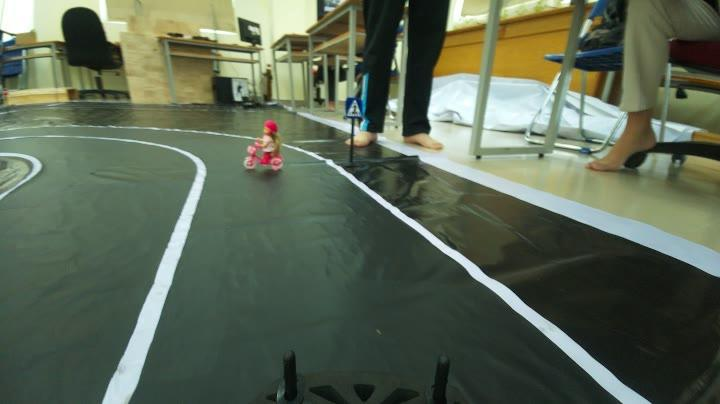crosswalk: (342, 92, 365, 121)
pedestrian: (244, 120, 289, 174)
